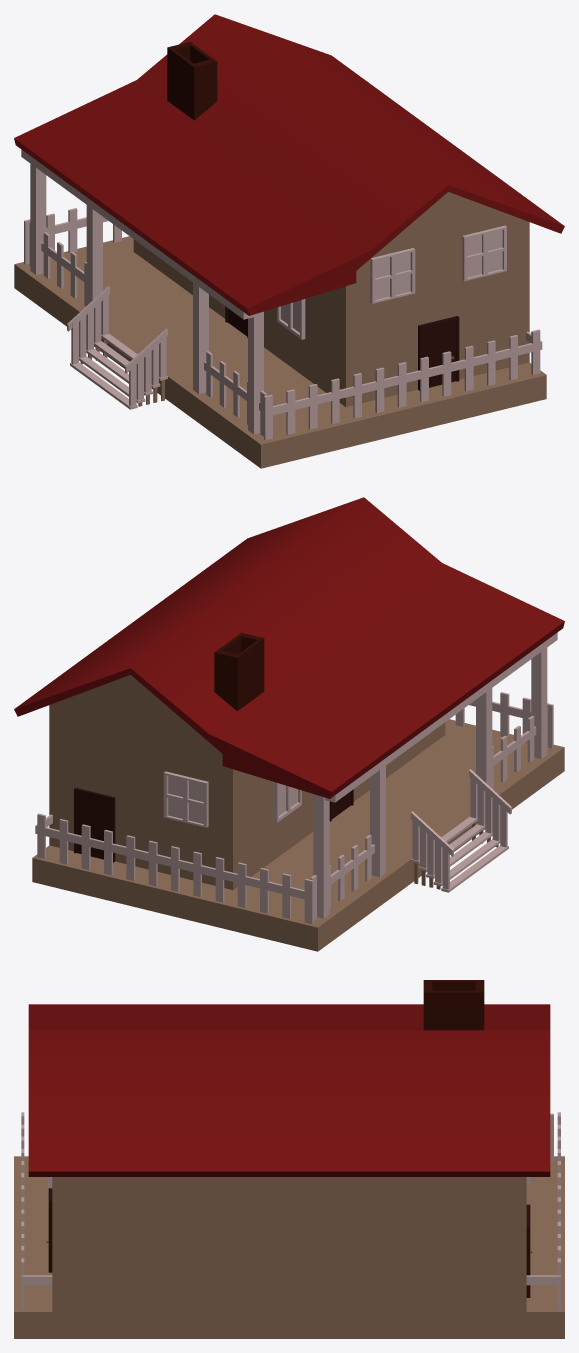
File: MSH_Casa-v2.FBX
3 views of the same model, one above another, from view 1: azimuth 30°, elevation 25°; view 2: azimuth 150°, elevation 25°; view 3: azimuth 270°, elevation 25° (orthographic). The views are drawn at different scales.
Parts seen in each view (by area): view 1: Object001; view 2: Object001; view 3: Object001.
Part boxes in pixels (x1,y1,x2,y2): Object001: [14, 14, 564, 468]; Object001: [14, 497, 564, 951]; Object001: [14, 980, 564, 1338].
Size of the model in its own units: 574 by 373 by 697.
